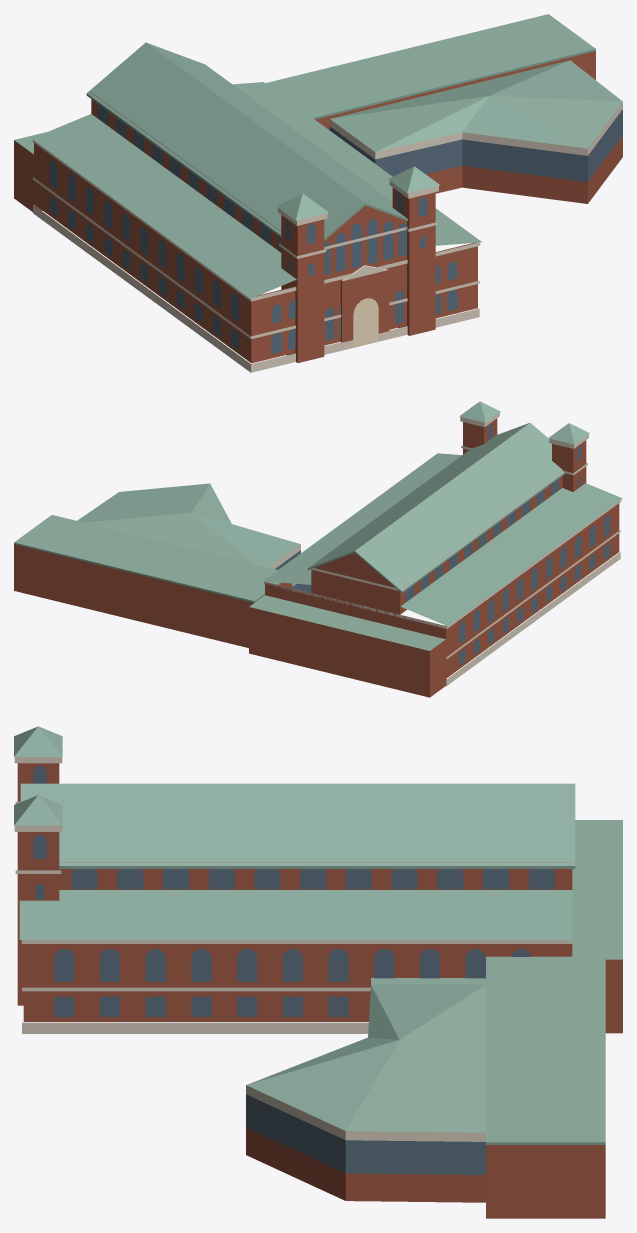
The model's file is indy-city-market.glb.
3 renders of one model, top to bottom at view 1: azimuth 30°, elevation 25°; view 2: azimuth 150°, elevation 25°; view 3: azimuth 270°, elevation 25°, orthographic. The views are drawn at different scales.
Parts seen in each view (by area): view 1: Indianapolis City Market; view 2: Indianapolis City Market; view 3: Indianapolis City Market.
Boxes of the visible parts, x1,y1,x2,y2 form: Indianapolis City Market: [14, 14, 622, 372]; Indianapolis City Market: [14, 401, 622, 697]; Indianapolis City Market: [14, 726, 622, 1218].
Size of the model in its own units: 76.1 by 22 by 59.95.
